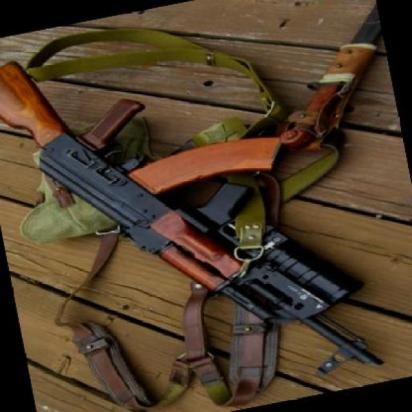Gun: (0, 36, 403, 412)
